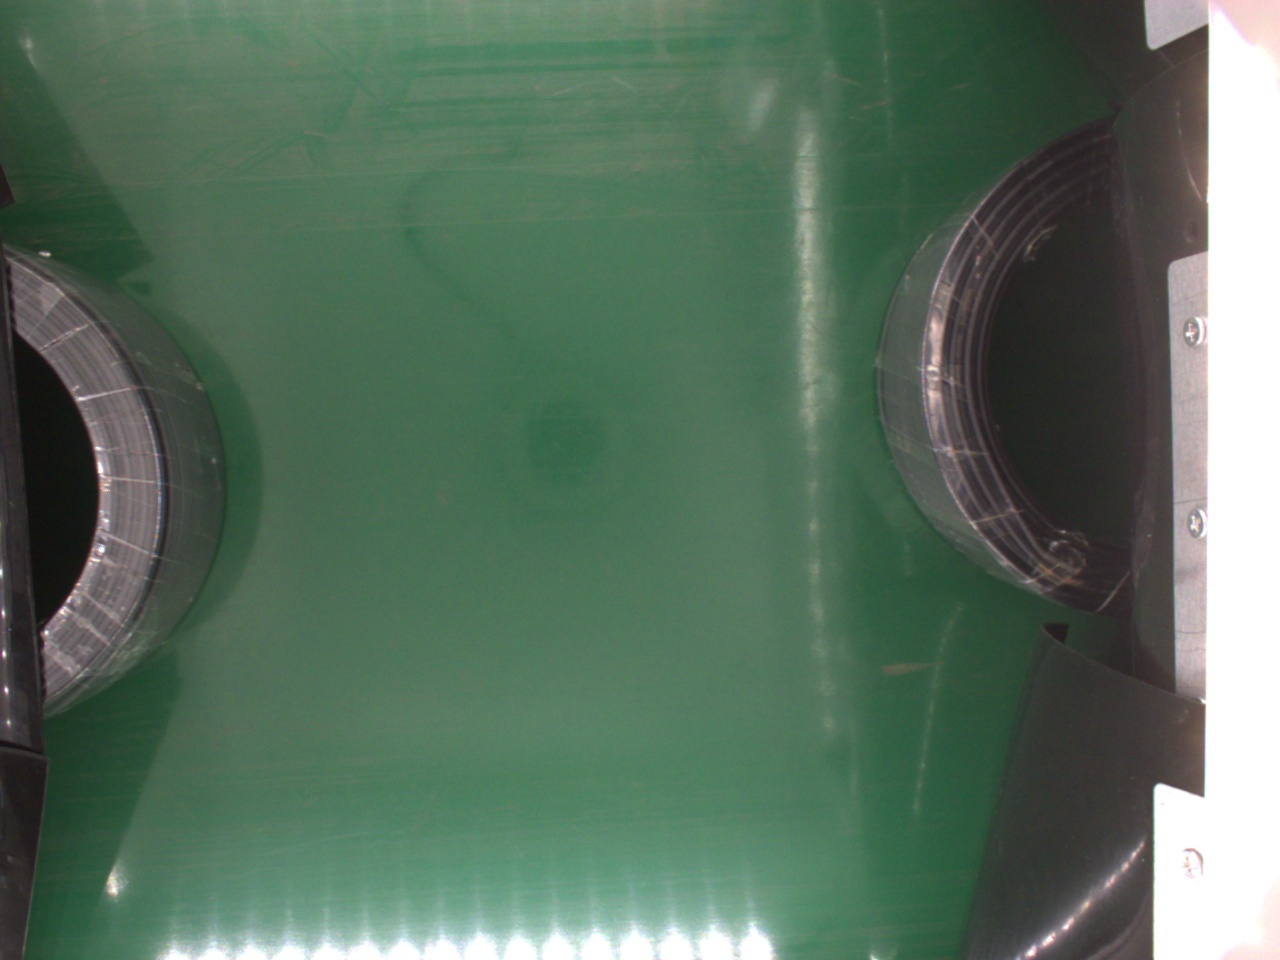black: (874, 119, 1140, 621), (9, 249, 224, 718)
